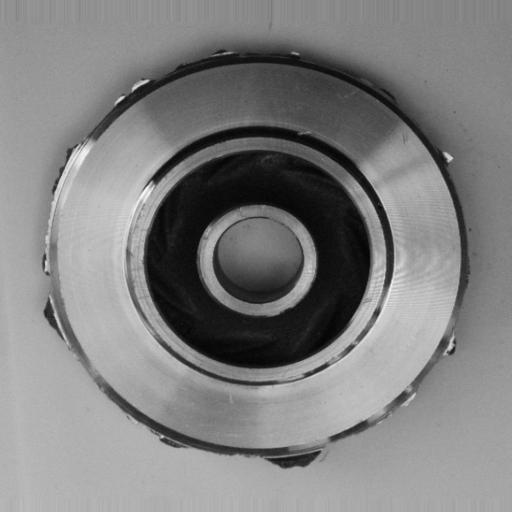casting_with_burr: (38, 48, 472, 473)
scratch: (118, 176, 162, 301)
